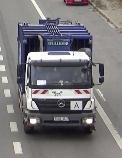Truck: (17, 17, 105, 135)
